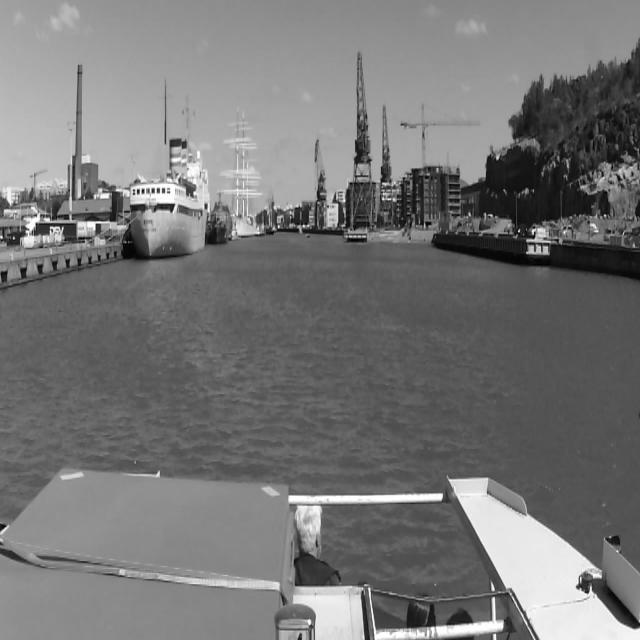ship: (130, 78, 207, 259), (233, 108, 261, 236), (211, 193, 233, 245), (306, 235, 310, 238)
